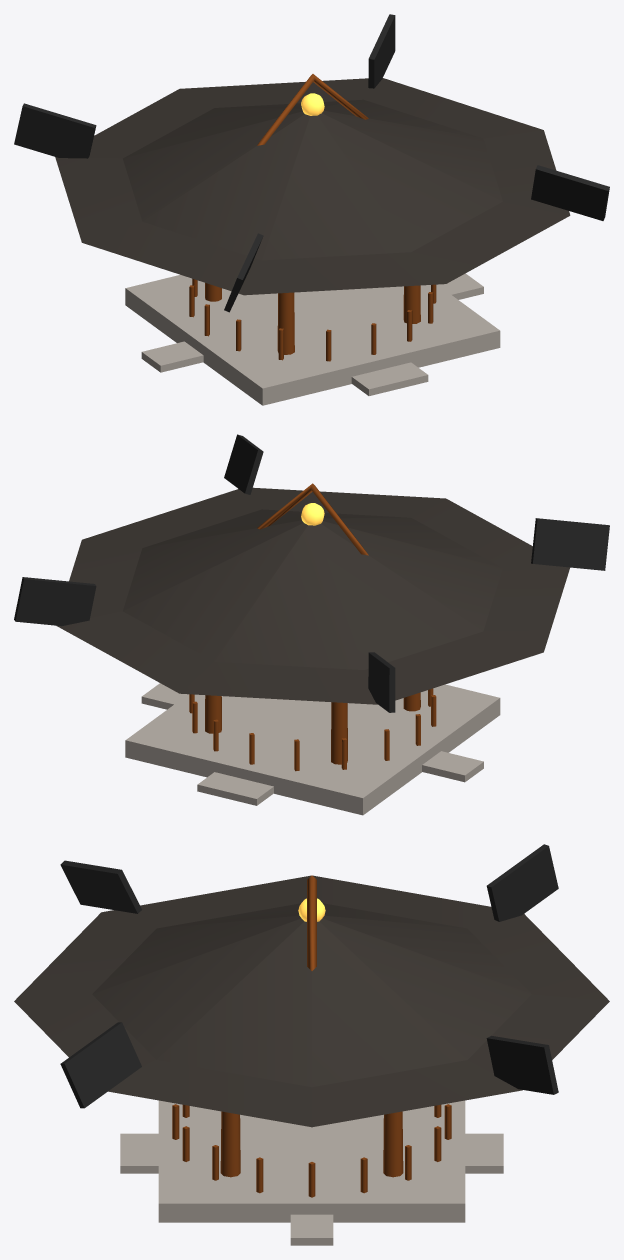
File: pavilion.glb
3 views of the same model, one above another, from view 1: azimuth 30°, elevation 25°; view 2: azimuth 150°, elevation 25°; view 3: azimuth 270°, elevation 25° (orthographic). The views are drawn at different scales.
Size of the model in its own units: 7 by 3.67 by 7.
